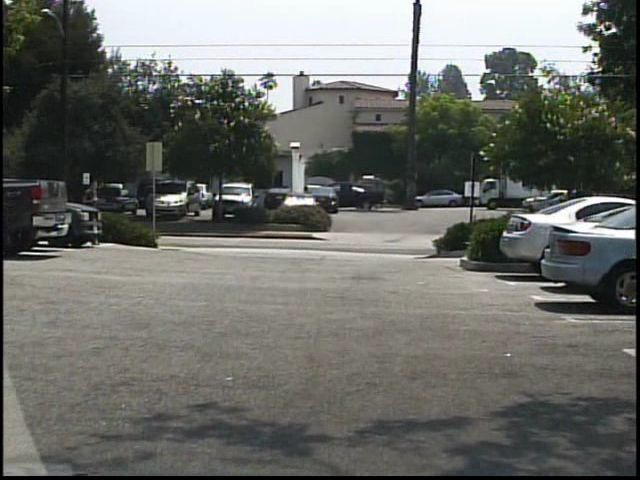person: (79, 179, 107, 247)
